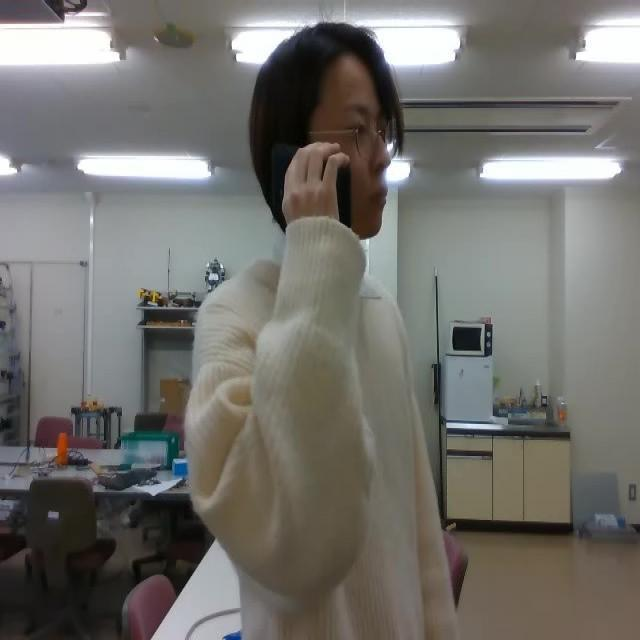Phone: (270, 139, 354, 229)
